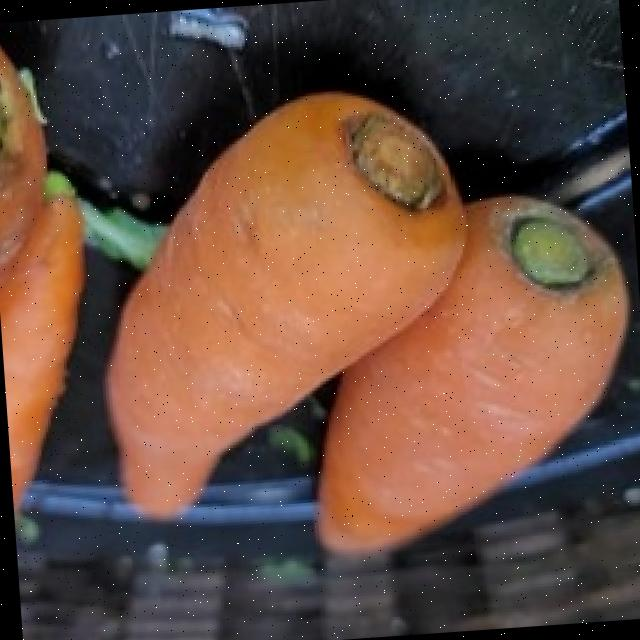carrot: (112, 97, 467, 517), (323, 200, 630, 553), (1, 200, 86, 510), (0, 50, 49, 285)
